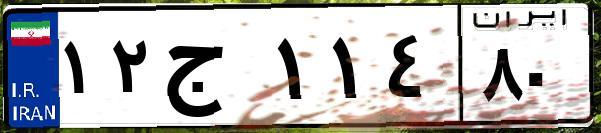0: (525, 38, 570, 115)
1: (270, 28, 330, 110), (330, 28, 385, 110), (57, 26, 110, 100)
2: (110, 28, 158, 98)
4: (385, 28, 445, 110)
8: (475, 38, 525, 113)
ج: (158, 20, 270, 120)
